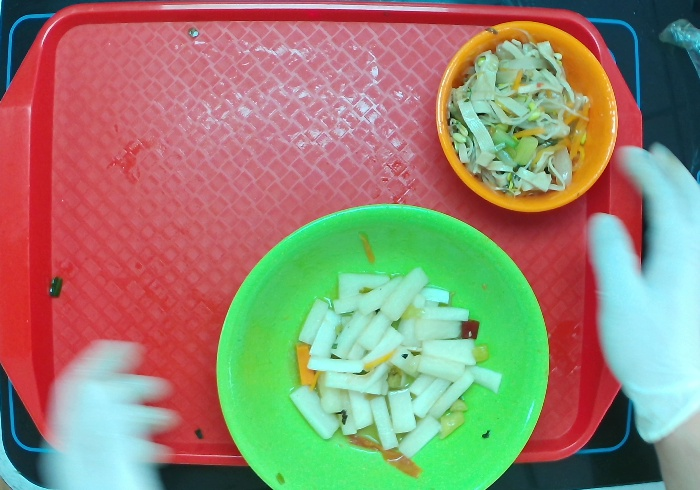YKMZ-Ju_Se_Yuan_Wan: (436, 19, 617, 209)
YKMZ-Lv_Se_Tang_Wan: (215, 203, 551, 490)
